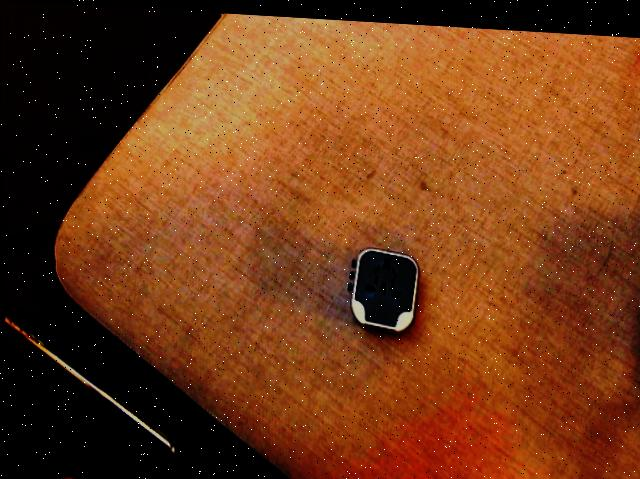adapter: (345, 242, 419, 329)
